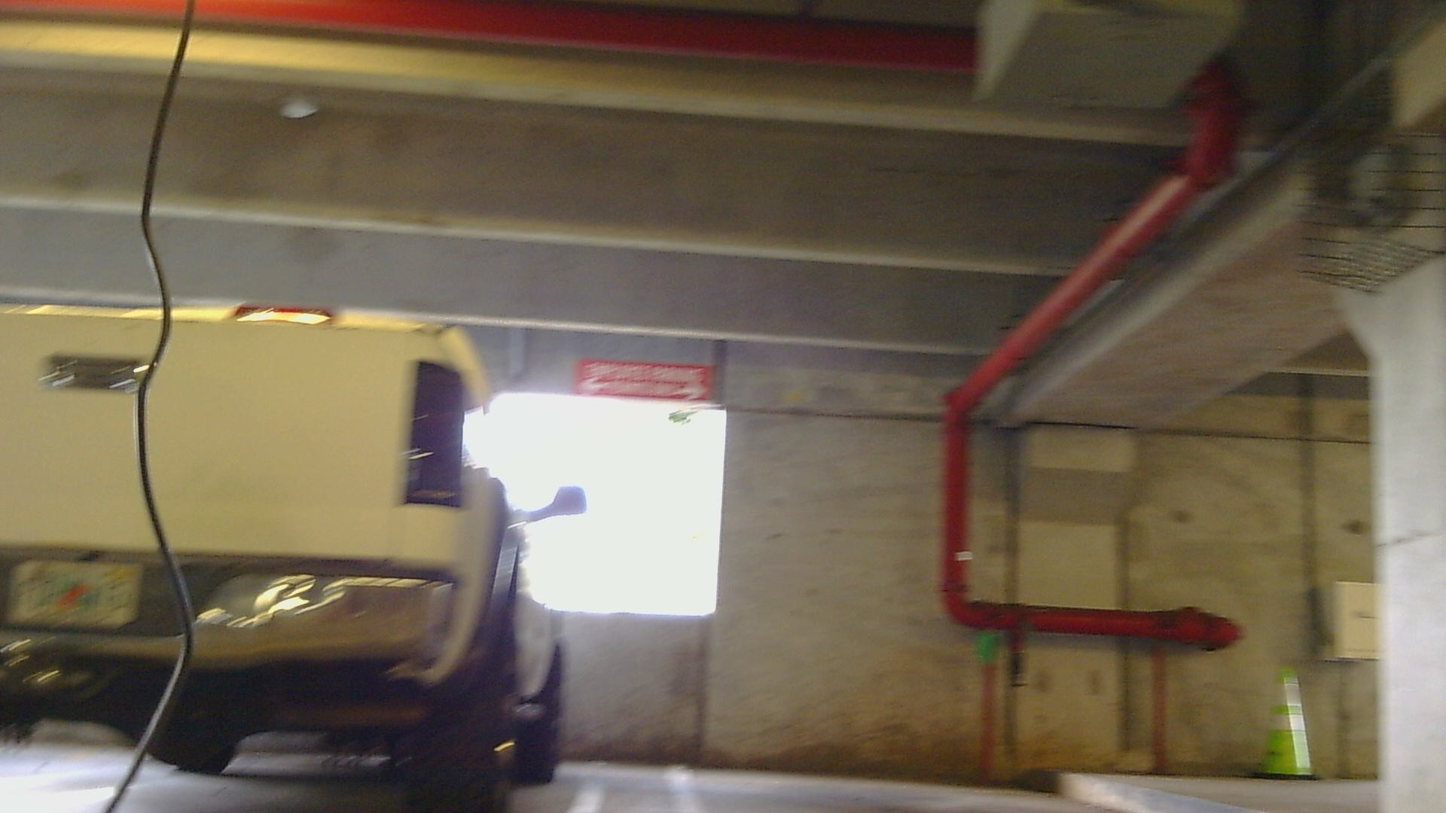empty_spot: (570, 660, 1253, 812)
occupied_spot: (0, 307, 564, 812)
